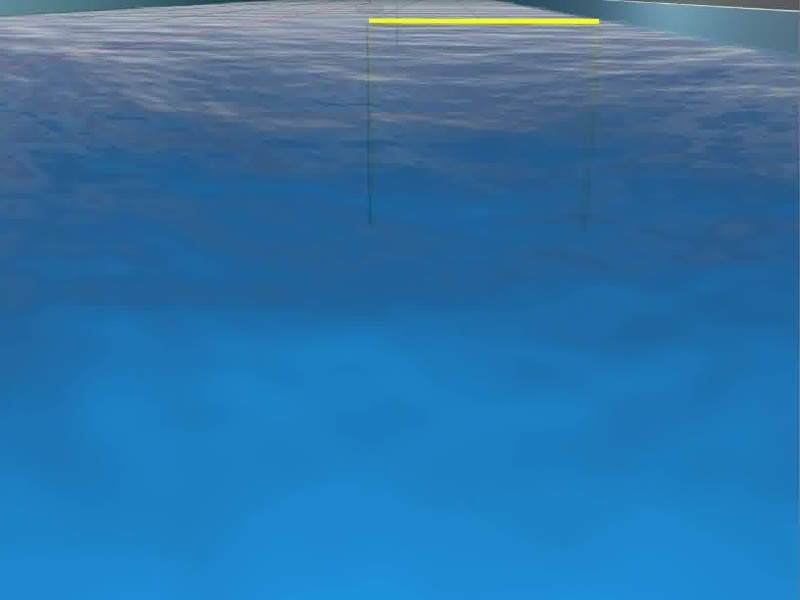gate: (366, 17, 600, 235)
